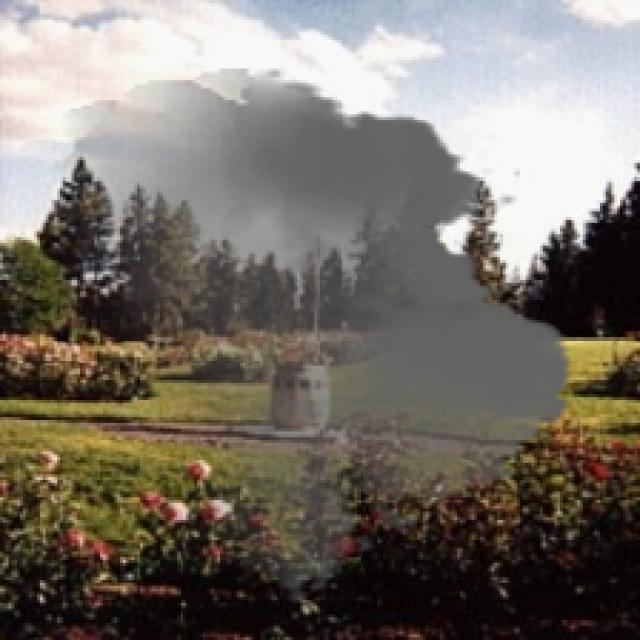smoke: (34, 69, 592, 606)
